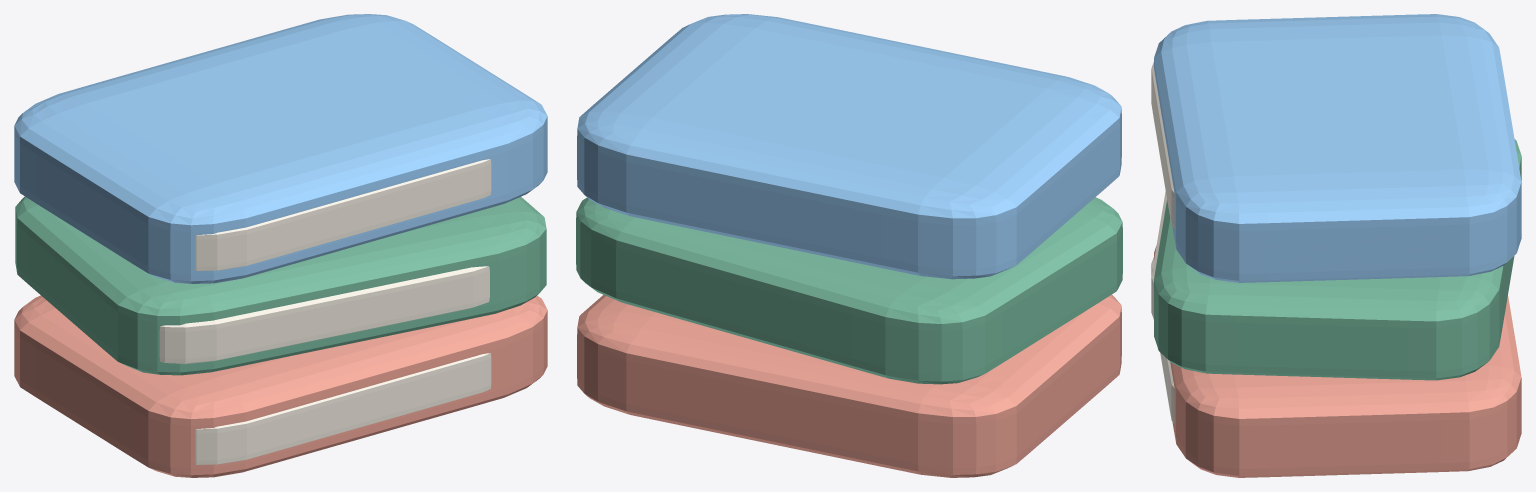
File: books.glb
3 views of the same model, side by side, from view 1: azimuth 30°, elevation 25°; view 2: azimuth 150°, elevation 25°; view 3: azimuth 270°, elevation 25° (orthographic). The views are drawn at different scales.
Parts seen in each view (by area): view 1: cover2, cover0, cover1, pages1, pages2, pages0; view 2: cover2, cover0, cover1; view 3: cover2, cover1, cover0, pages2, pages0, pages1.
Part boxes in pixels (left/top/right/bottom): cover2: left=14, top=14, right=547, bottom=283; cover0: left=14, top=295, right=547, bottom=477; cover1: left=15, top=196, right=546, bottom=375; pages1: left=159, top=266, right=489, bottom=363; pages2: left=195, top=159, right=491, bottom=270; pages0: left=195, top=353, right=491, bottom=464; cover2: left=577, top=14, right=1121, bottom=279; cover0: left=577, top=294, right=1121, bottom=477; cover1: left=576, top=197, right=1122, bottom=384; cover2: left=1154, top=14, right=1521, bottom=282; cover1: left=1154, top=139, right=1521, bottom=380; cover0: left=1154, top=245, right=1521, bottom=477; pages2: left=1151, top=62, right=1174, bottom=229; pages0: left=1151, top=257, right=1174, bottom=424; pages1: left=1151, top=191, right=1166, bottom=319.
Bounding box in the file's own units: 0.4121 × 0.259 × 0.3098.
